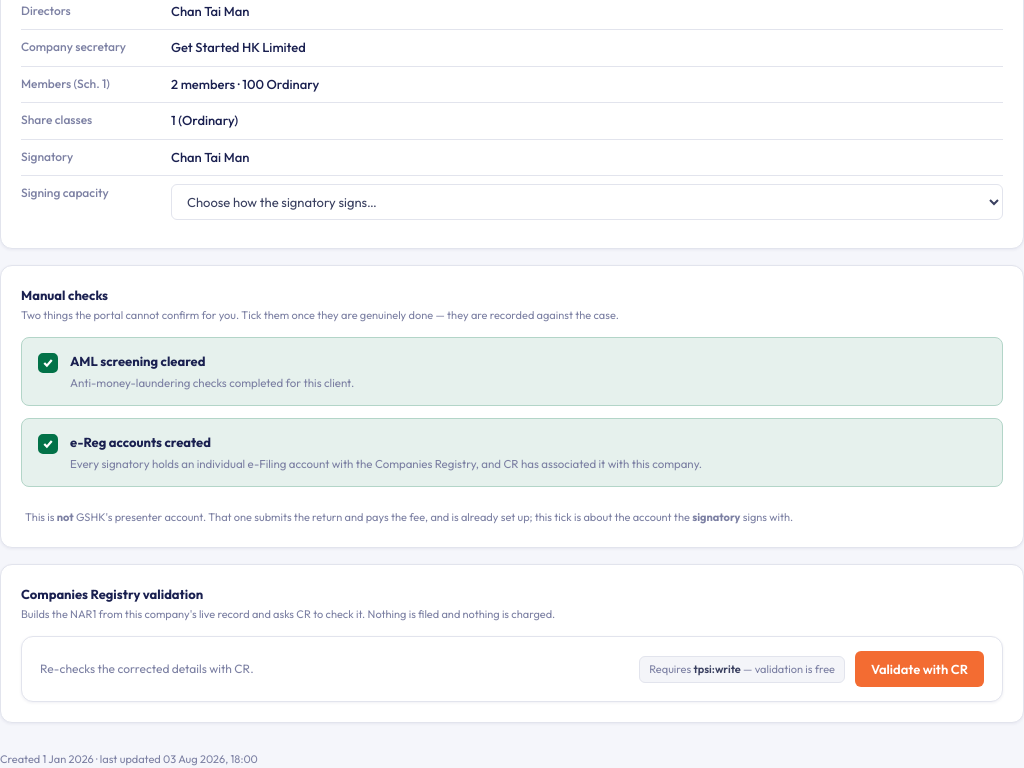
Test case: CaseWorkflowPage — CR refusals › shouts when CR says the account is locked
(page scrolled)
What coordinates should you click on to do the following:
click the button "Validate with CR"
I would click on:
 (920, 669)
Its box is x1=855 y1=651 x2=984 y2=687.
(page scrolled)
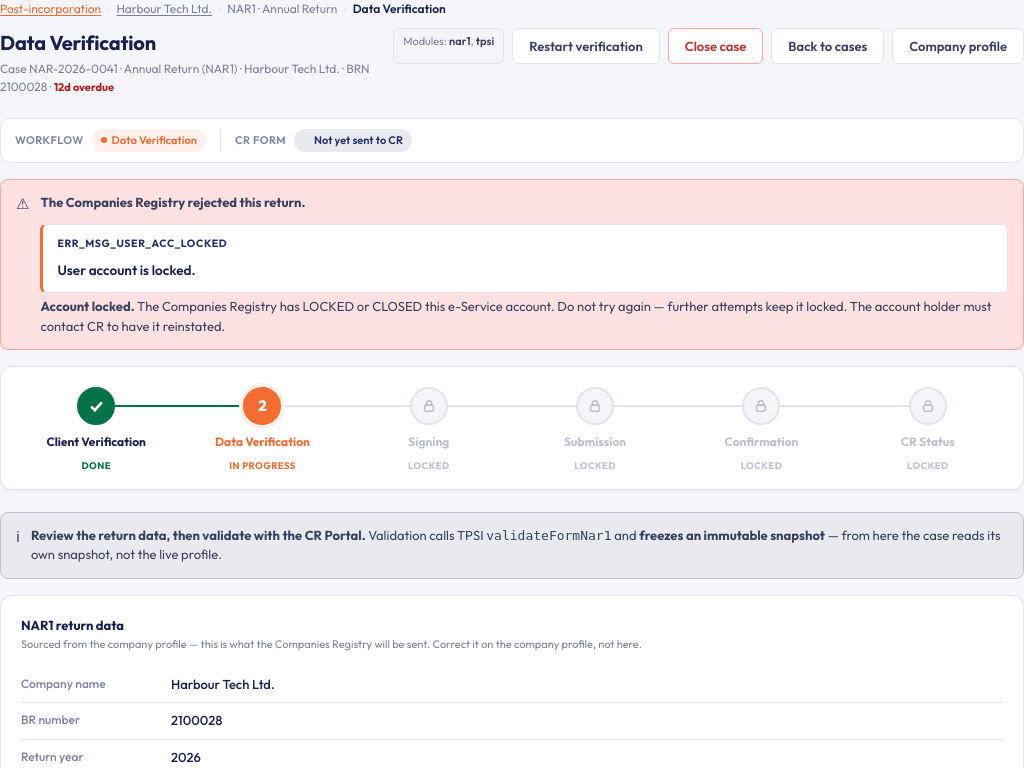
Result: the text "Account locked." is shown at x1=40 y1=298 x2=137 y2=314
Result: the text "Do not try again" is shown at x1=40 y1=298 x2=992 y2=334
